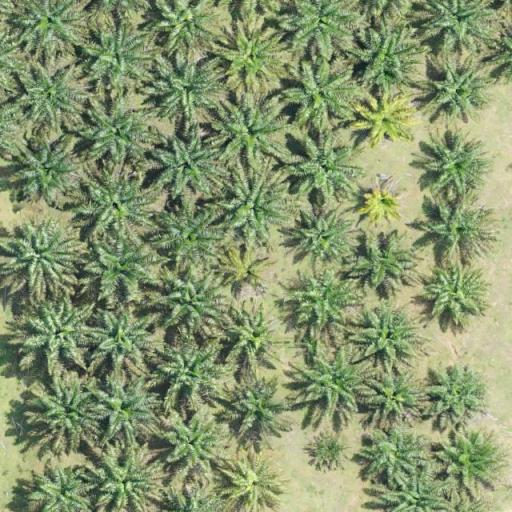Ganoderma: (228, 254, 269, 293), (362, 182, 404, 218), (368, 103, 403, 138)
